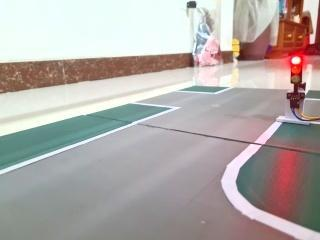red: (283, 43, 312, 99)
